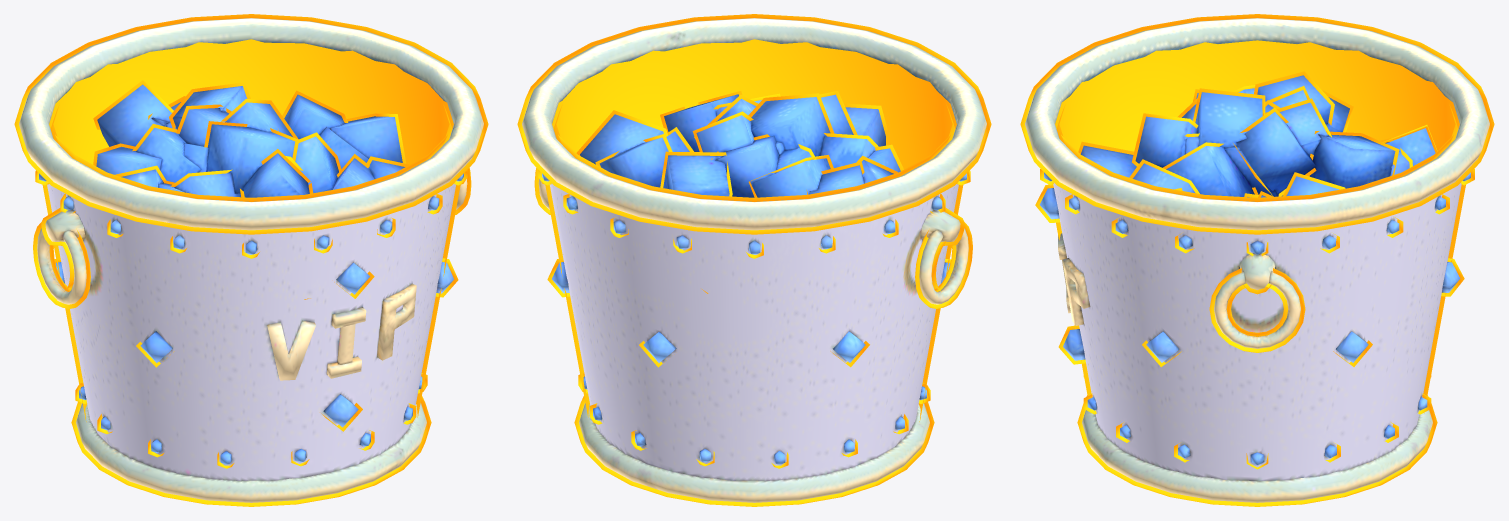
Rendered from Ice_Bucket.glb.
3 views of the same model, side by side, from view 1: azimuth 30°, elevation 25°; view 2: azimuth 150°, elevation 25°; view 3: azimuth 270°, elevation 25° (orthographic).
Visible parts, largest first — view 1: VIP_Ice, VIP_Ice.001; view 2: VIP_Ice, VIP_Ice.001; view 3: VIP_Ice, VIP_Ice.001.
Boxes of the visible parts, x1,y1,x2,y2 form: VIP_Ice: (19, 18, 483, 502); VIP_Ice.001: (14, 14, 488, 506); VIP_Ice: (522, 18, 986, 502); VIP_Ice.001: (517, 14, 991, 506); VIP_Ice: (1025, 18, 1489, 502); VIP_Ice.001: (1020, 14, 1494, 506).
Bounding box in the file's own units: 0.3878 × 0.2991 × 0.3878.
2 materials, 1 textured.
